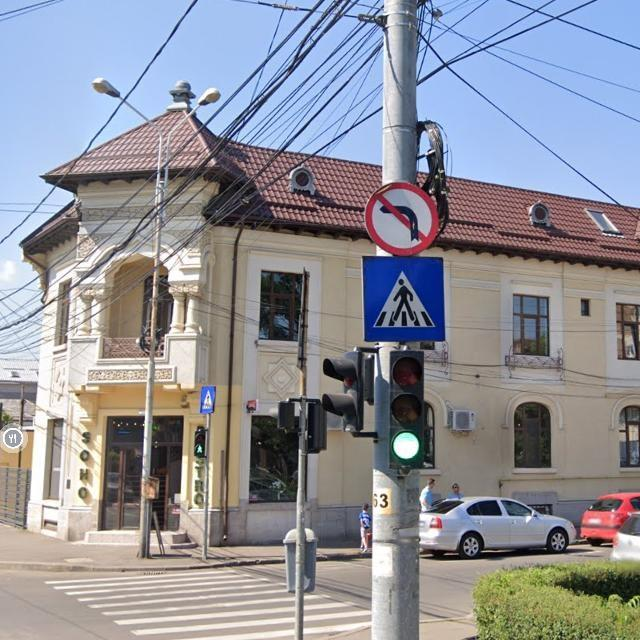info_crosswalk: (363, 255, 446, 340)
